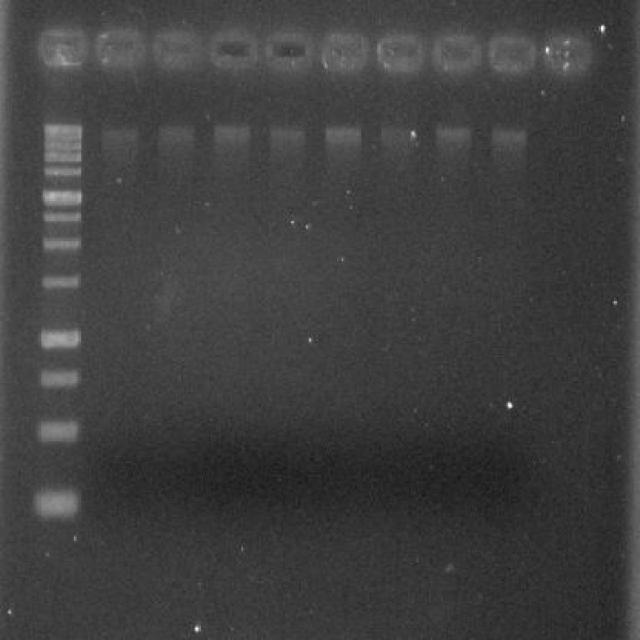B: (485, 120, 533, 154), (318, 119, 364, 152), (430, 118, 476, 150), (152, 120, 198, 149), (209, 118, 254, 147), (264, 120, 310, 148), (375, 124, 420, 150), (100, 125, 142, 147)
L: (28, 14, 610, 86)
M: (27, 104, 90, 540)
P: (32, 486, 83, 523), (33, 416, 84, 446), (36, 324, 82, 353), (37, 186, 85, 209), (34, 366, 82, 388), (40, 270, 82, 293), (39, 234, 84, 254), (42, 122, 82, 142), (39, 209, 84, 226), (41, 164, 82, 178), (41, 139, 82, 153), (42, 150, 82, 164)
Pc: (94, 20, 148, 78), (35, 21, 93, 74), (151, 22, 204, 80), (206, 19, 262, 73), (262, 22, 316, 78), (375, 23, 428, 79), (318, 22, 372, 76), (540, 28, 597, 78), (485, 25, 538, 78), (430, 29, 484, 77)
